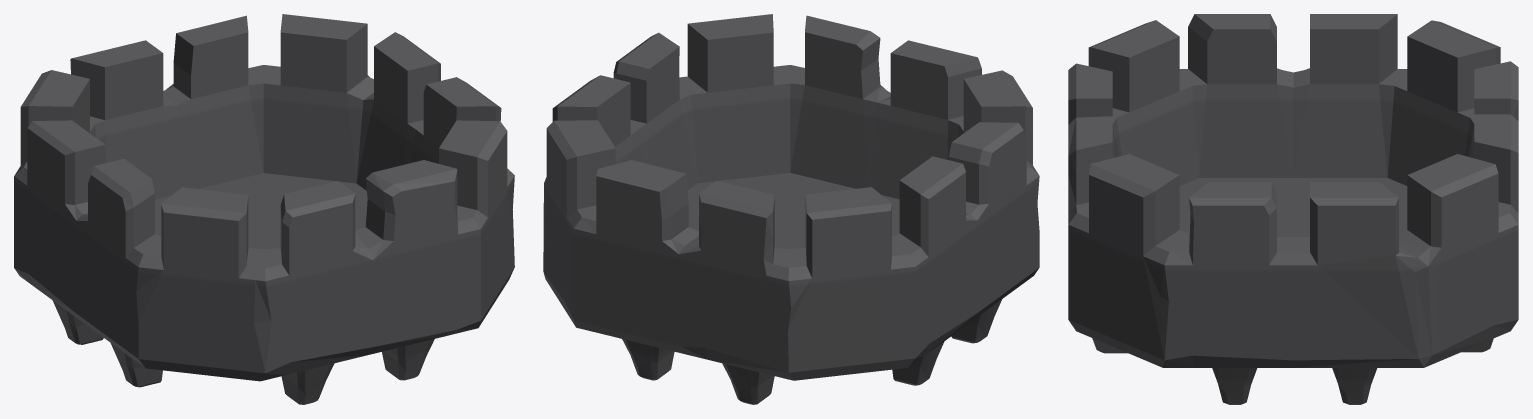
Rendered from SM_Bld_Castle_Tower_Top_01_Lite.gltf.
3 renders of one model, left to right at view 1: azimuth 30°, elevation 25°; view 2: azimuth 150°, elevation 25°; view 3: azimuth 270°, elevation 25°, orthographic. The views are drawn at different scales.
Visible parts, largest first — view 1: SM_Bld_Castle_Tower_Top_01_Lite; view 2: SM_Bld_Castle_Tower_Top_01_Lite; view 3: SM_Bld_Castle_Tower_Top_01_Lite.
Part boxes in pixels (x1=…): SM_Bld_Castle_Tower_Top_01_Lite: x1=14, y1=14, x2=514, y2=404; SM_Bld_Castle_Tower_Top_01_Lite: x1=543, y1=14, x2=1039, y2=404; SM_Bld_Castle_Tower_Top_01_Lite: x1=1068, y1=14, x2=1518, y2=404.
Size of the model in its own units: 3.07 by 1.64 by 3.07.
Materials: 1 (1 with a texture image).
